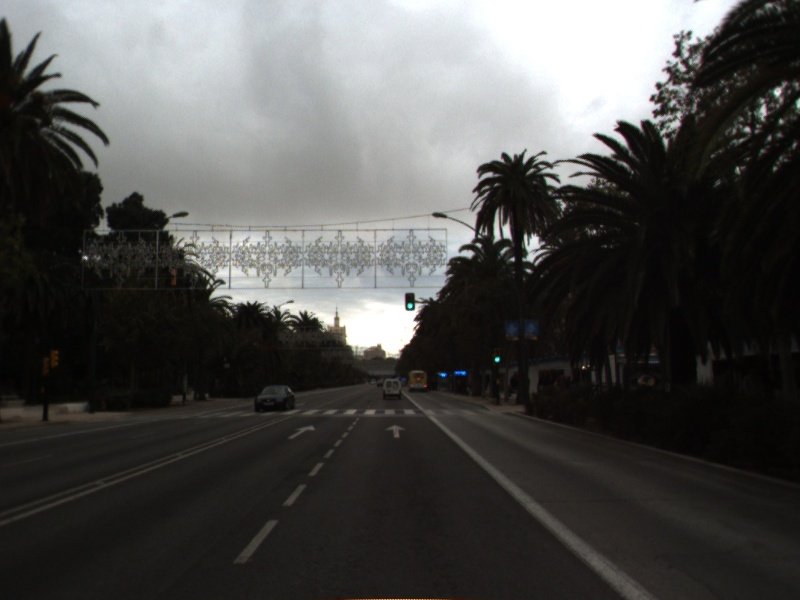STRAIGHT: (285, 423, 318, 441), (384, 423, 408, 439)
